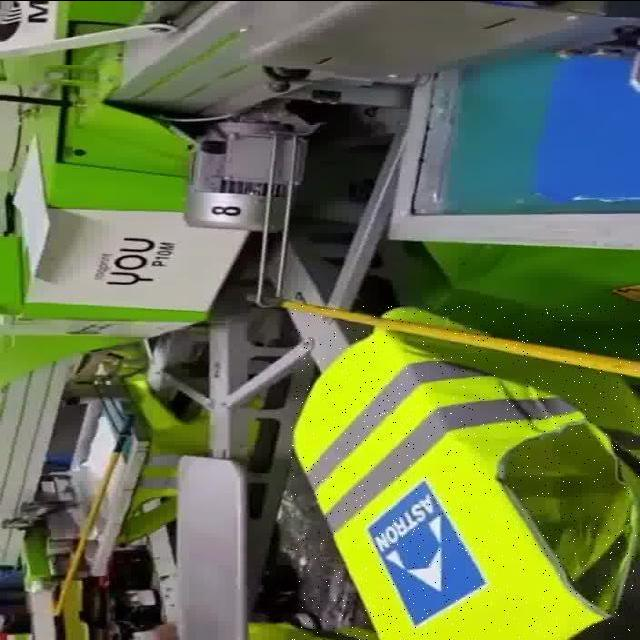vest: (289, 303, 640, 640)
